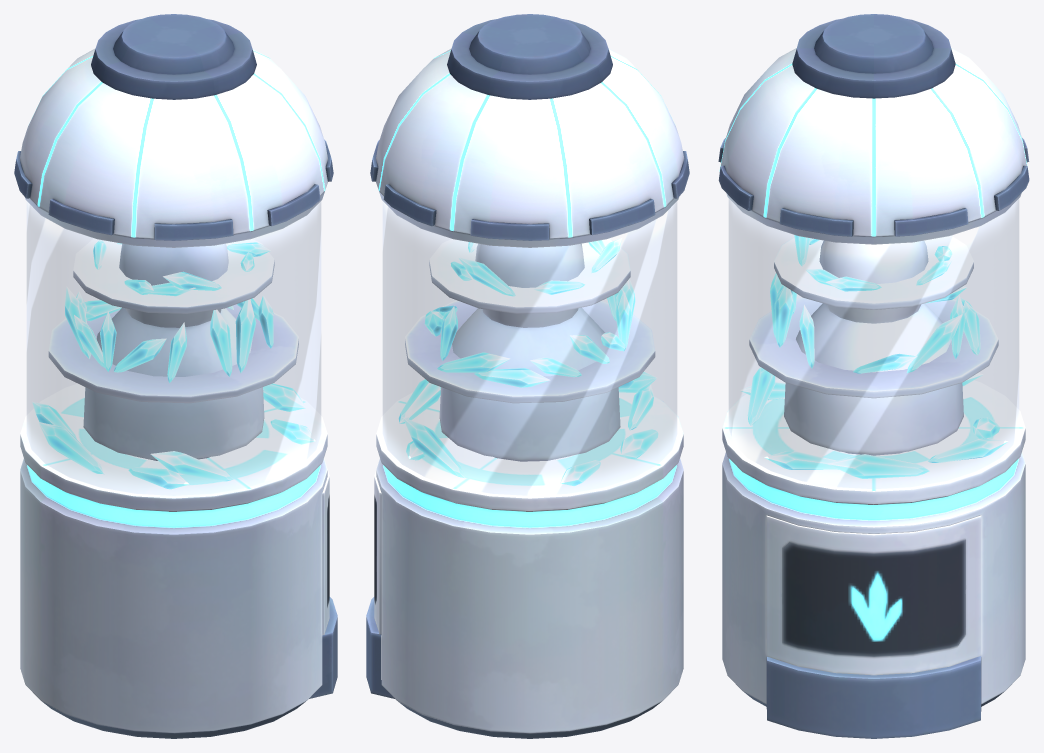
The model's file is obj_lab07.gltf.
3 renders of one model, left to right at view 1: azimuth 30°, elevation 25°; view 2: azimuth 150°, elevation 25°; view 3: azimuth 270°, elevation 25°, orthographic.
Parts seen in each view (by area): view 1: obj_lab07; view 2: obj_lab07; view 3: obj_lab07.
Part boxes in pixels (box(x1,y1,x2,y2)): obj_lab07: box(14, 14, 337, 738); obj_lab07: box(366, 14, 689, 738); obj_lab07: box(718, 14, 1029, 738).
Size of what is drawn, in the model's own units: 1.11 by 2.44 by 1.08.
Materials: 3 (3 with a texture image).
